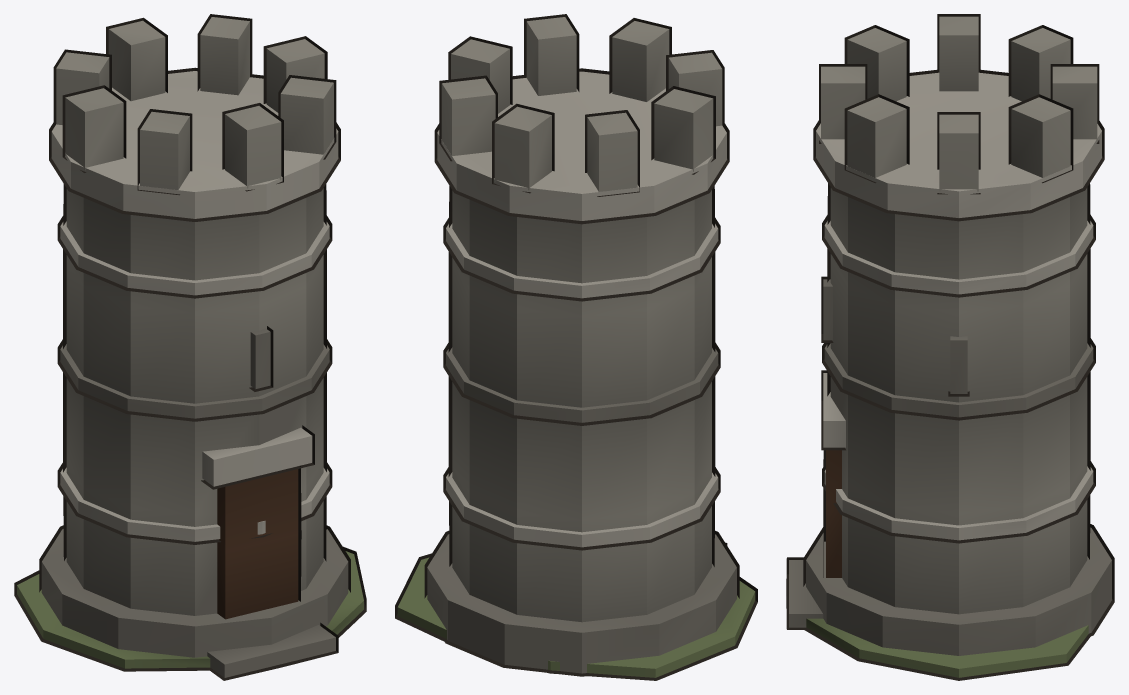
The model's file is tour.glb.
3 views of the same model, side by side, from view 1: azimuth 30°, elevation 25°; view 2: azimuth 150°, elevation 25°; view 3: azimuth 270°, elevation 25° (orthographic).
Parts seen in each view (by area): view 1: tour, tour_outline; view 2: tour, tour_outline; view 3: tour, tour_outline.
Boxes of the visible parts, x1,y1,x2,y2 form: tour: [17, 17, 363, 677]; tour_outline: [14, 14, 366, 680]; tour: [397, 17, 755, 677]; tour_outline: [395, 14, 757, 680]; tour: [789, 16, 1111, 677]; tour_outline: [786, 14, 1114, 680].
Size of the model in its own units: 1.47 by 2.37 by 1.33.
